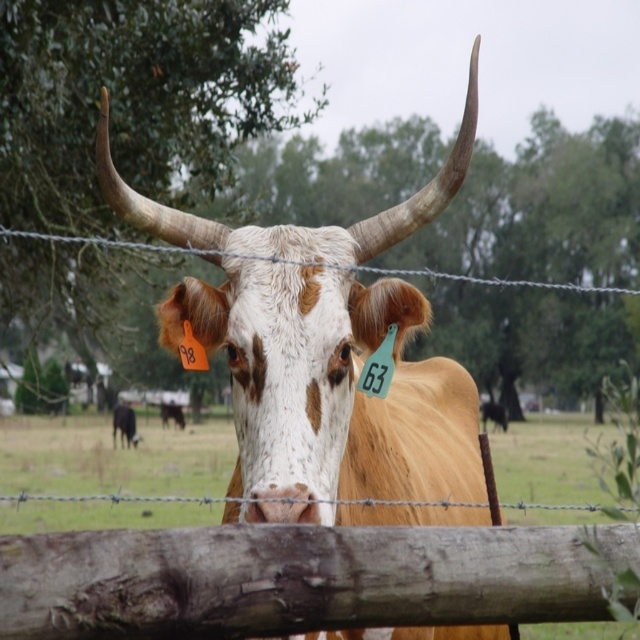Cattle: (95, 34, 512, 640), (112, 404, 139, 450), (483, 403, 509, 433), (162, 404, 185, 431)
